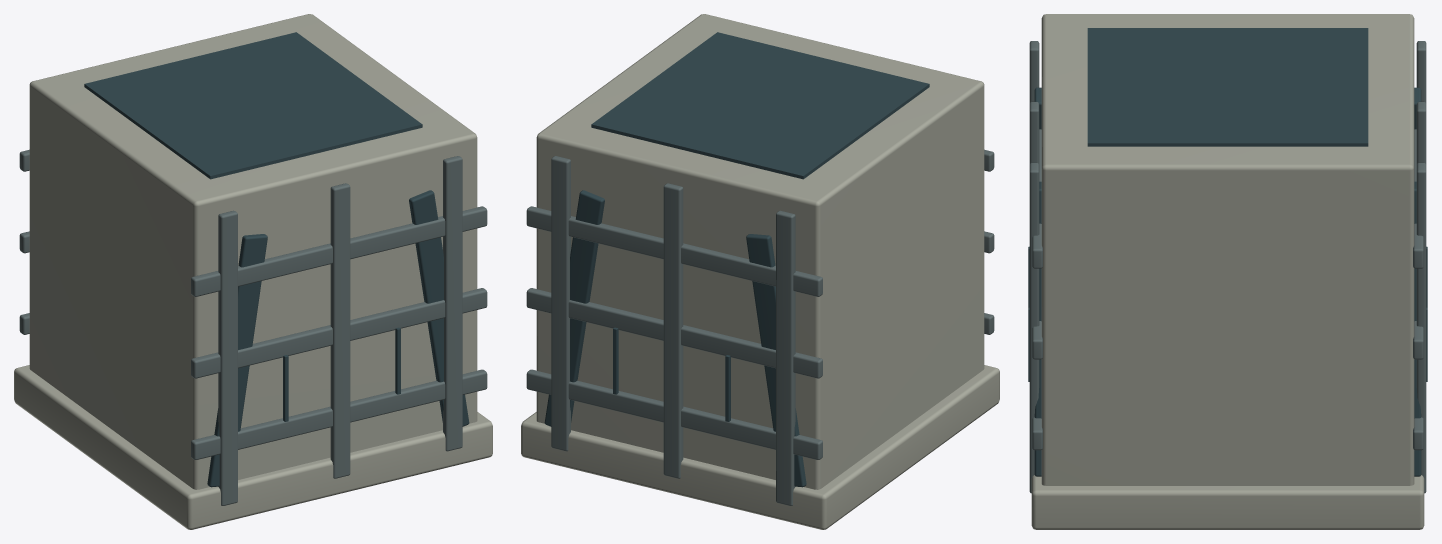
File: abutment-base-0.glb
3 views of the same model, side by side, from view 1: azimuth 30°, elevation 25°; view 2: azimuth 150°, elevation 25°; view 3: azimuth 270°, elevation 25° (orthographic). The views are drawn at different scales.
Visible parts, largest first — view 1: abutment_1, abutment_2, abutment_0; view 2: abutment_1, abutment_2, abutment_0; view 3: abutment_1, abutment_2, abutment_0.
Boxes of the visible parts, x1=… form: abutment_1: x1=14, y1=14, x2=492, y2=529; abutment_2: x1=84, y1=32, x2=469, y2=487; abutment_0: x1=19, y1=149, x2=487, y2=505; abutment_1: x1=521, y1=14, x2=999, y2=529; abutment_2: x1=544, y1=32, x2=929, y2=487; abutment_0: x1=526, y1=149, x2=994, y2=505; abutment_1: x1=1031, y1=14, x2=1424, y2=529; abutment_2: x1=1028, y1=28, x2=1427, y2=476; abutment_0: x1=1029, y1=41, x2=1426, y2=493.
Bounding box in the file's own units: 0.98 × 1 × 0.996.
